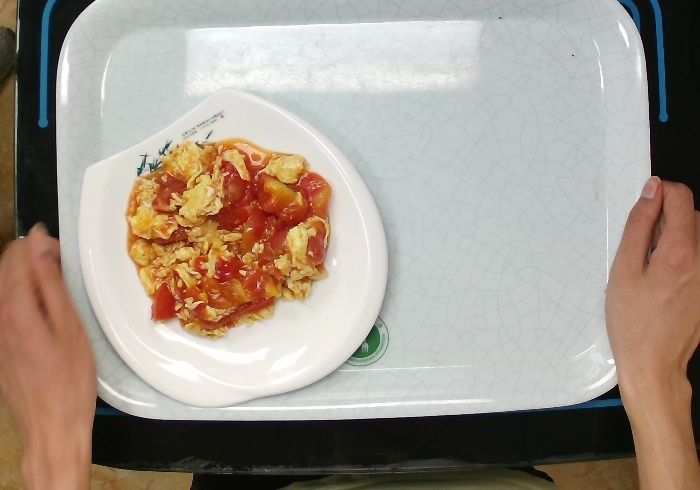JYsf-Mian_Pan: (75, 86, 388, 410)
